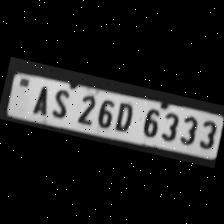2: (70, 90, 100, 126)
3: (194, 115, 221, 151), (156, 108, 182, 143), (175, 111, 201, 146)
6: (135, 103, 163, 139), (92, 94, 118, 128)
A: (27, 80, 52, 115)
D: (110, 98, 138, 134)
S: (44, 84, 74, 120)
